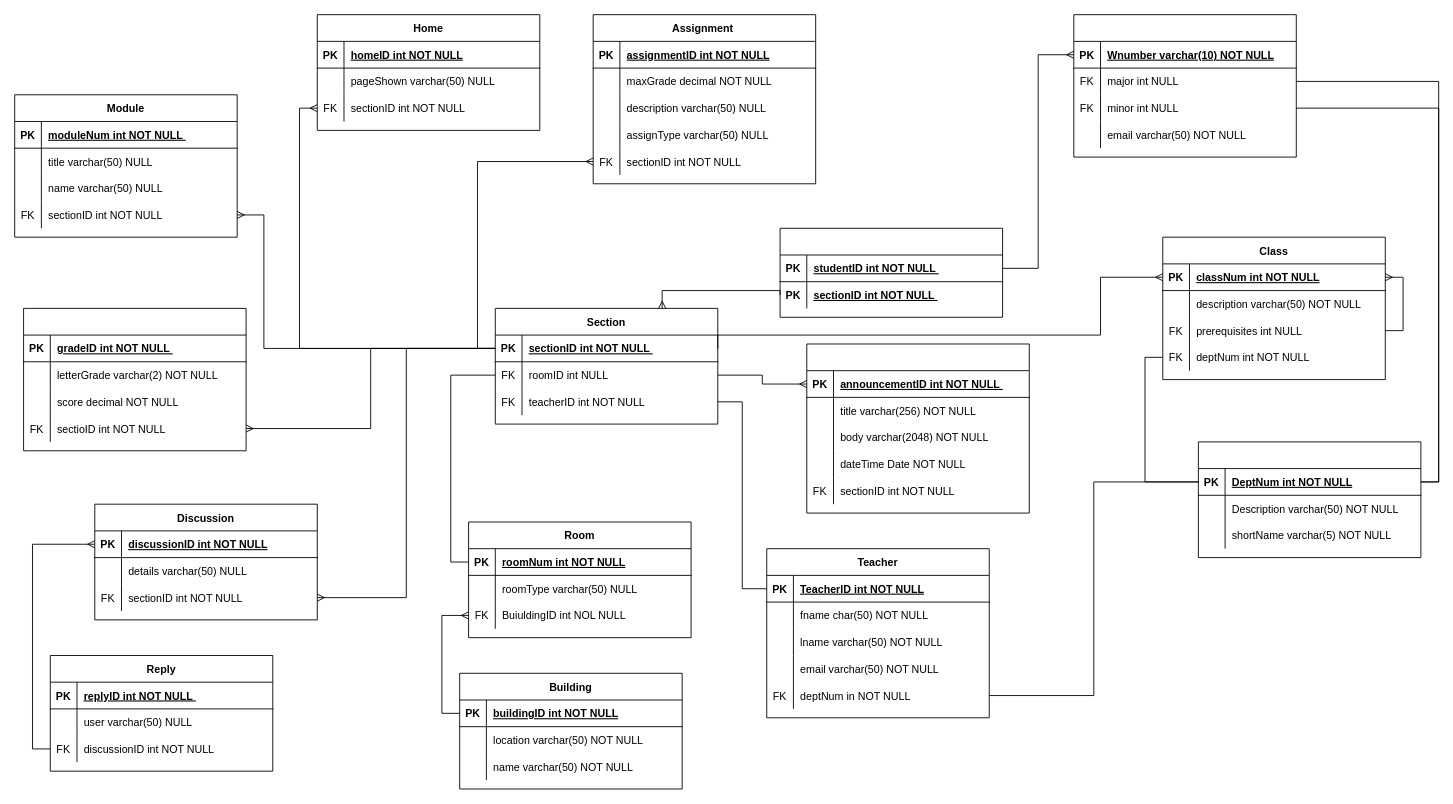
Some shapes in this 1453 by 804 pixel diagram are drawn without their labels. Each missing label, with the box of its shape:
Announcements: (806, 343, 1029, 513)
Department: (1197, 441, 1421, 558)
Final_Grade: (23, 307, 246, 451)
Student: (1073, 14, 1296, 157)
Student_Section: (779, 227, 1003, 317)
